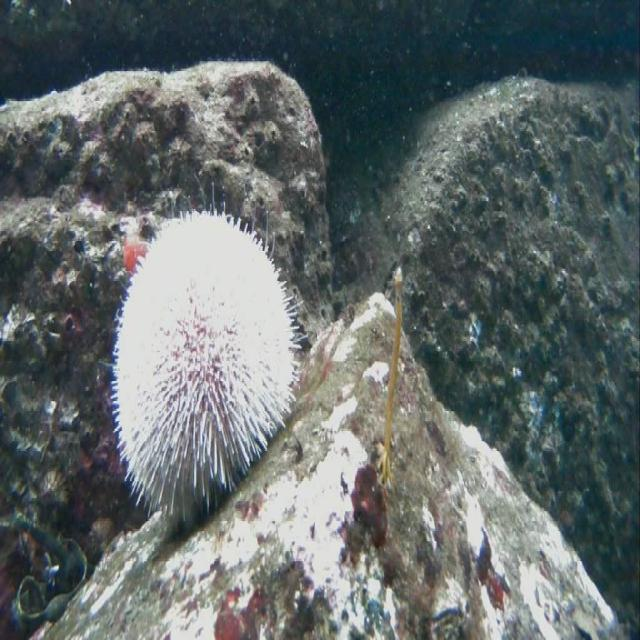Deniz Kestanesi: (99, 181, 307, 528)
